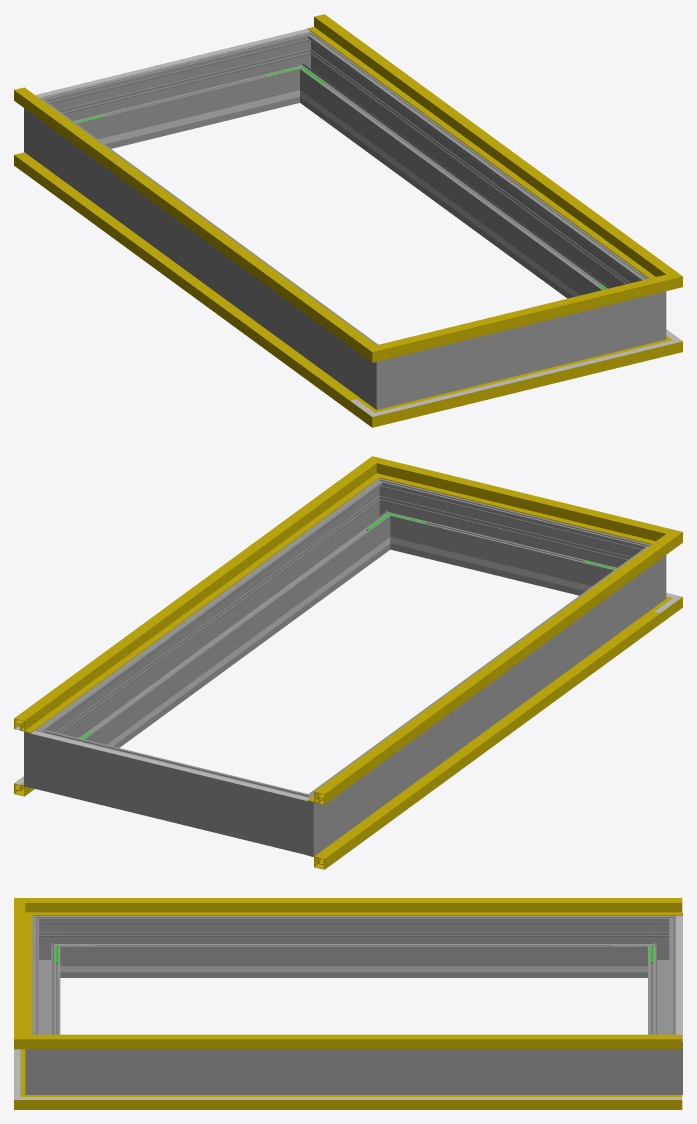
3 renders of one model, top to bottom at view 1: azimuth 30°, elevation 25°; view 2: azimuth 150°, elevation 25°; view 3: azimuth 270°, elevation 25°, orthographic. The views are drawn at different scales.
Parts seen in each view (by area): view 1: 3DGeom-298, 3DGeom-269, 3DGeom-277, 3DGeom-299, 3DGeom-128, 3DGeom-118, 3DGeom-6, 3DGeom-123, 3DGeom-11, 3DGeom-271, 3DGeom-25, 3DGeom-285 (+9 smaller); view 2: 3DGeom-298, 3DGeom-269, 3DGeom-299, 3DGeom-277, 3DGeom-128, 3DGeom-118, 3DGeom-6, 3DGeom-123, 3DGeom-279, 3DGeom-285, 3DGeom-25, 3DGeom-291 (+6 smaller); view 3: 3DGeom-269, 3DGeom-298, 3DGeom-118, 3DGeom-128, 3DGeom-16, 3DGeom-233, 3DGeom-277, 3DGeom-299, 3DGeom-123, 3DGeom-285, 3DGeom-291, 3DGeom-18 (+6 smaller).
Part boxes in pixels (x1,y1,x2,y2): 3DGeom-298: (303,45,637,298); 3DGeom-269: (46,111,366,393); 3DGeom-277: (66,39,293,148); 3DGeom-299: (415,300,627,400); 3DGeom-128: (307,14,659,274); 3DGeom-118: (14,87,359,346); 3DGeom-6: (14,152,359,410); 3DGeom-123: (405,281,643,353); 3DGeom-11: (405,346,643,418); 3DGeom-271: (354,336,415,409); 3DGeom-25: (14,153,355,400); 3DGeom-285: (278,31,329,104); 3DGeom-298: (53,492,386,747); 3DGeom-269: (323,558,643,839); 3DGeom-299: (397,486,623,595); 3DGeom-277: (63,736,281,847); 3DGeom-128: (14,472,366,733); 3DGeom-118: (307,546,660,804); 3DGeom-6: (308,610,660,869); 3DGeom-123: (401,465,643,539); 3DGeom-279: (275,783,336,856); 3DGeom-285: (24,717,69,795); 3DGeom-25: (318,612,659,859); 3DGeom-291: (360,478,411,551); 3DGeom-269: (67,915,641,977); 3DGeom-298: (67,1049,641,1094); 3DGeom-118: (55,898,682,915); 3DGeom-128: (55,1034,682,1049); 3DGeom-16: (55,1095,682,1109); 3DGeom-233: (100,966,607,972); 3DGeom-277: (648,930,676,1034); 3DGeom-299: (32,930,60,1034); 3DGeom-123: (14,915,32,1030); 3DGeom-285: (641,1027,682,1094); 3DGeom-291: (25,1027,66,1094); 3DGeom-18: (56,1097,682,1099).
Size of the model in its own units: 1.22 by 0.2836 by 2.44.
